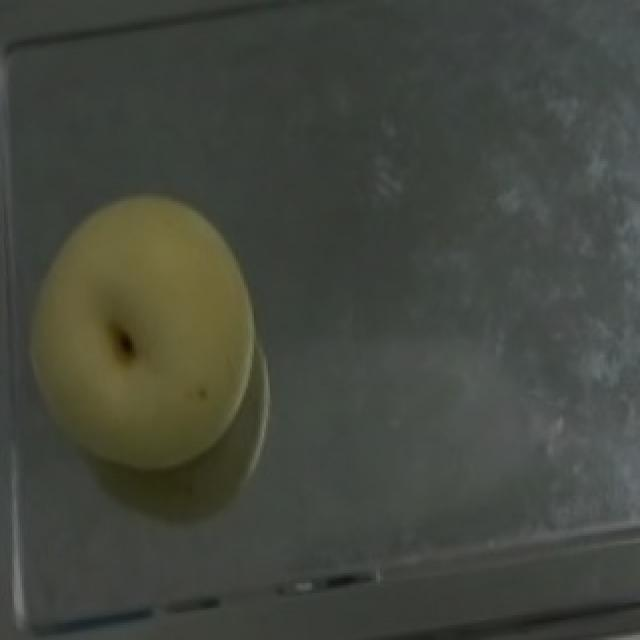Fruit: (2, 168, 282, 494)
